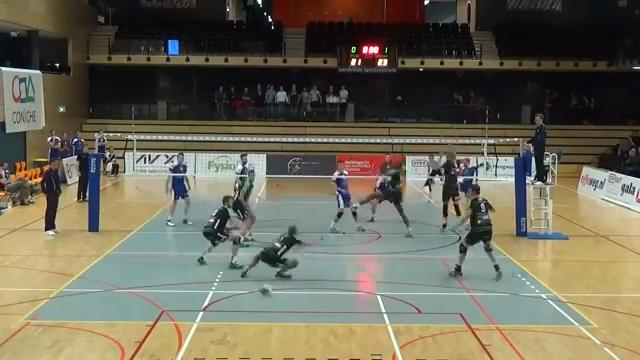Dig: (236, 221, 326, 280)
Player: (450, 184, 501, 279), (359, 165, 412, 237), (197, 195, 239, 264), (229, 170, 255, 268), (329, 161, 364, 232), (166, 153, 191, 226), (442, 153, 461, 229), (367, 154, 393, 197), (460, 158, 476, 204), (234, 153, 249, 190), (379, 154, 393, 175)
ball: (261, 285, 274, 296)
